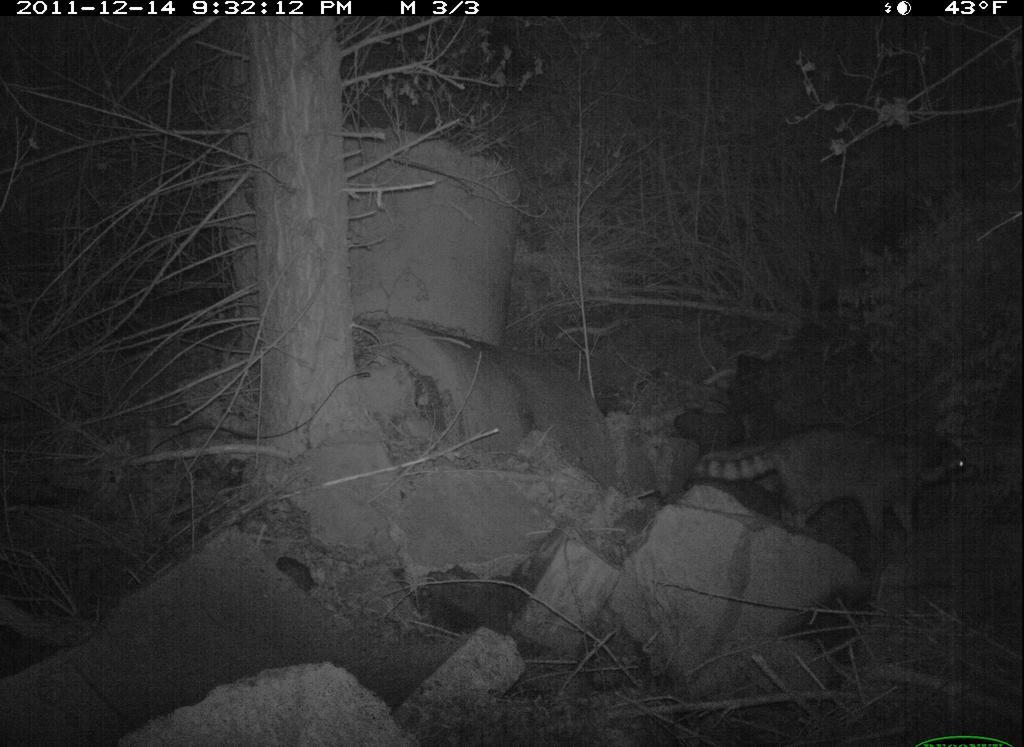raccoon: (688, 415, 982, 548)
